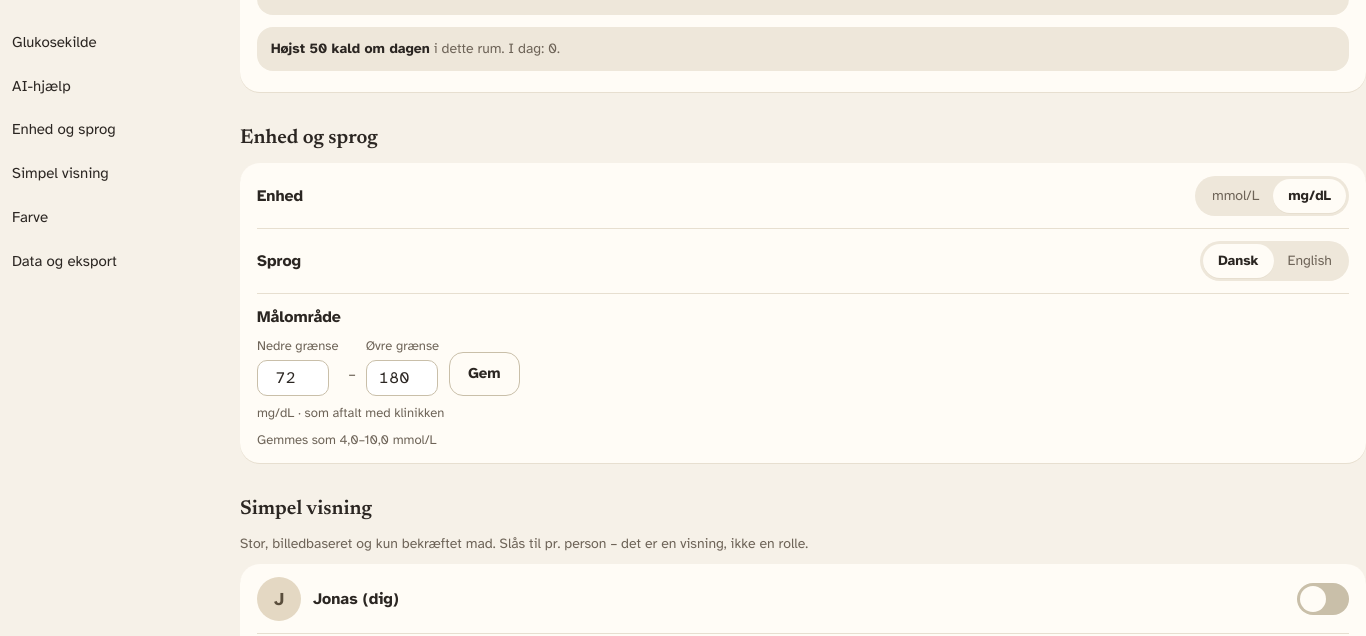
it: SettingsScreen · unit and target range (per space, owners only) › refuses a range that collapses after conversion, says why, and saves nothing
The image size is (1366, 636).
(page scrolled)
Replace the text in the number field labelled "Nedre grænse" with "100" at point(293, 378), box [257,360,329,396]
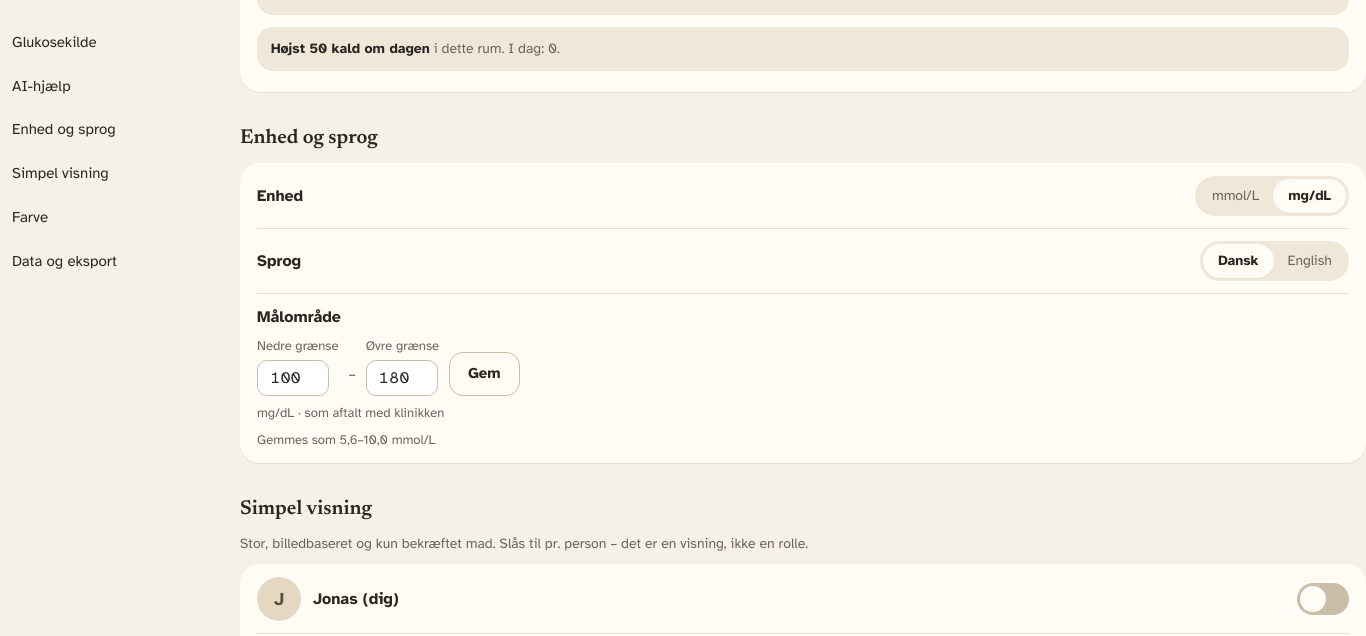
Replace the text in the number field labelled "Øvre grænse" with "101" at point(402, 378), box [366,360,438,396]
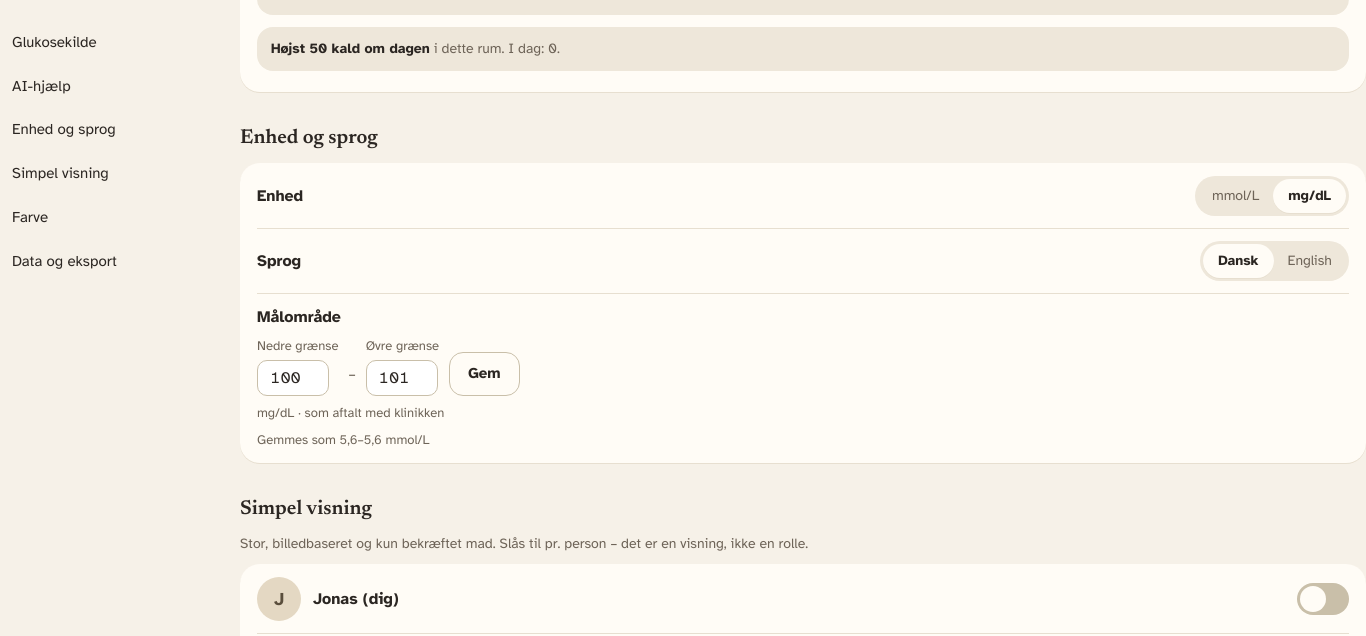
Click the button "Gem" at point(484, 374), box [449,352,520,396]
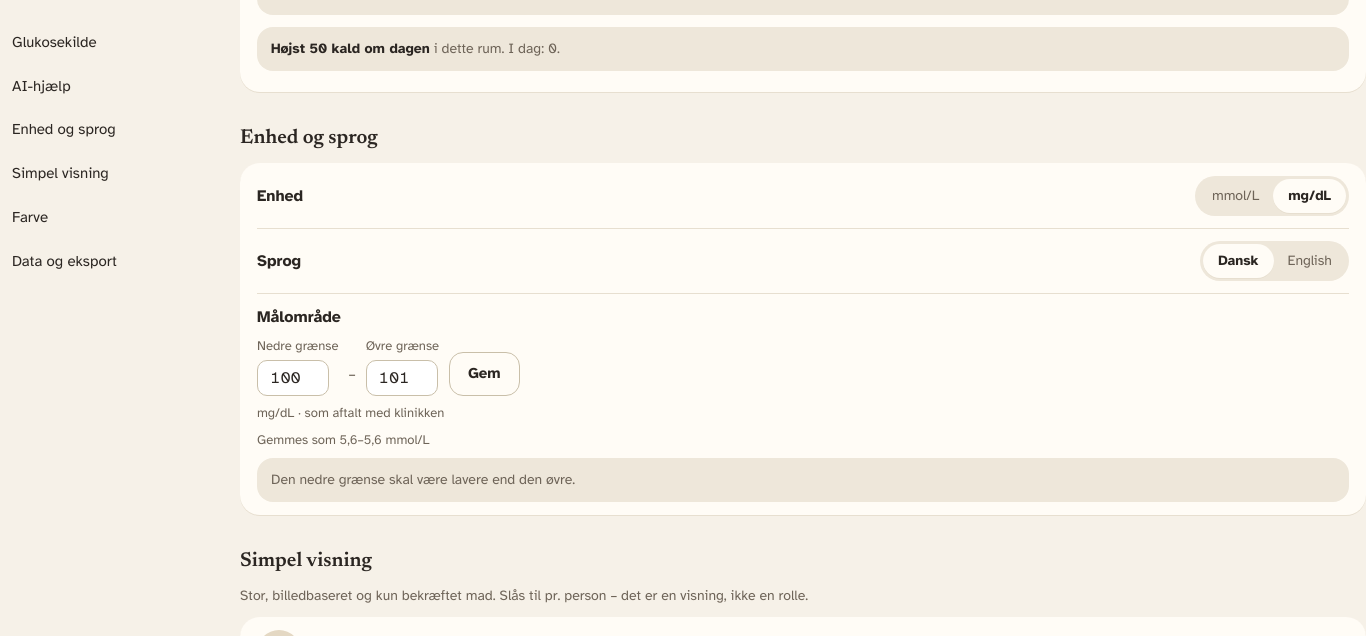
Now the message reads "Den nedre grænse skal være lavere end den øvre.", box [271,471,575,488]
Replace the text in the number field labelled "Øvre grænse" with "180" at point(402, 378), box [366,360,438,396]
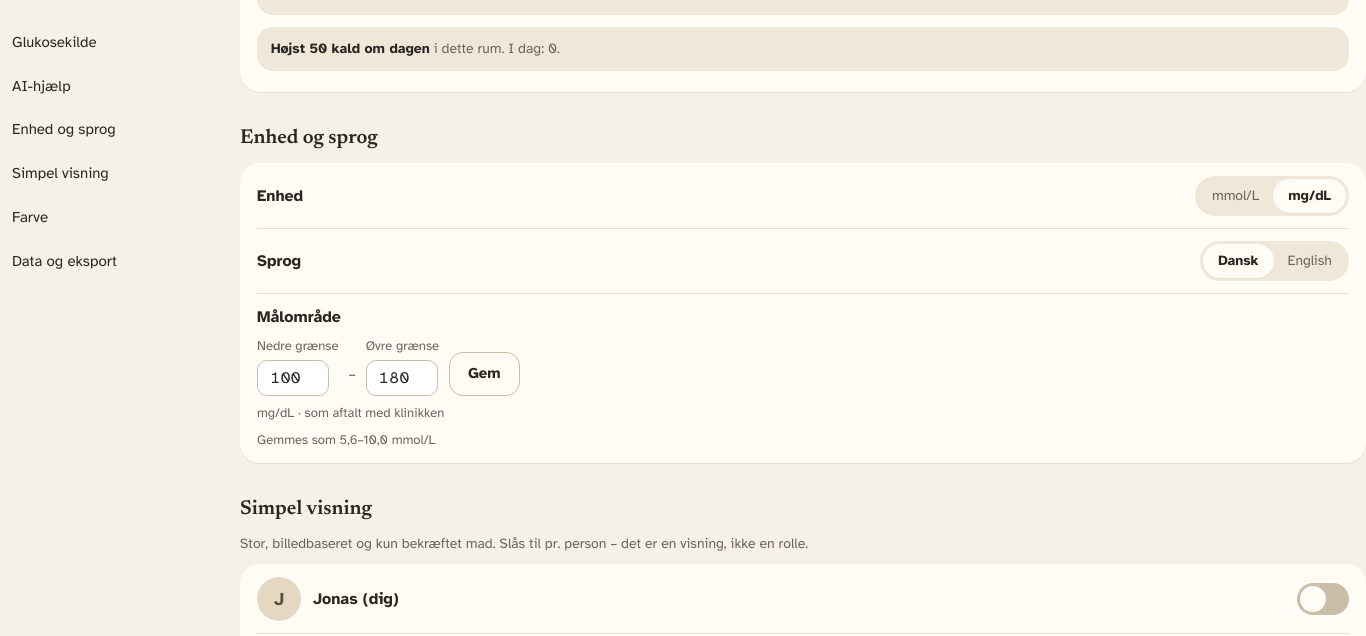
Now the message "Den nedre grænse skal være lavere end den øvre." is gone
